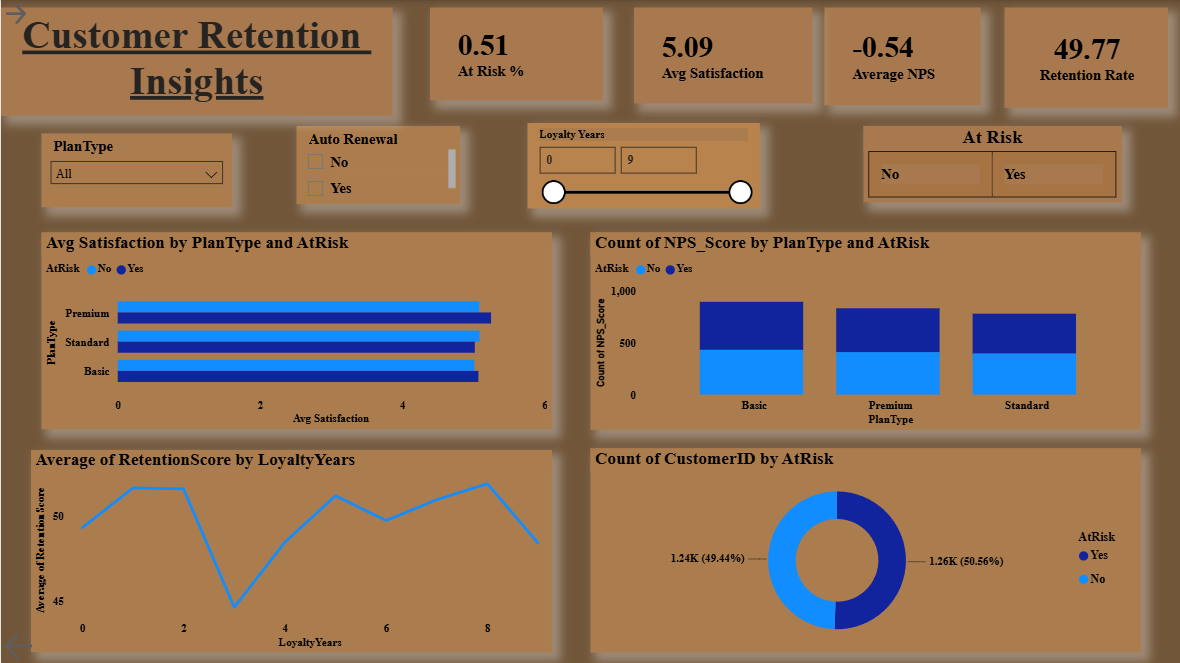

Layout of this report page (visuals, bound fields, positions):
{"tool":"powerbi","page":{"name":"Customer Retention","canvas":[1280,720],"ordinal":3},"visuals":[{"type":"cardVisual","fields":{"Data":["customer_retention.At Risk %"]},"box":[465.2,8.1,187.1,100.8],"z":0},{"type":"cardVisual","fields":{"Data":["customer_retention.Average NPS"]},"box":[893,8.1,169.2,105.7],"z":1000},{"type":"cardVisual","fields":{"Data":["customer_retention.Avg Satisfaction"]},"box":[686.4,8.1,193.6,104.1],"z":2000},{"type":"cardVisual","fields":{"Data":["customer_retention.Retention Rate"]},"box":[1088.2,8.1,177.3,109],"z":3000},{"type":"donutChart","fields":{"Category":["customer_retention.AtRisk"],"Y":["CountNonNull(customer_retention.CustomerID)"]},"box":[639.2,486.3,596.9,221.2],"z":4000},{"type":"clusteredBarChart","fields":{"Category":["customer_retention.PlanType"],"Y":["customer_retention.Avg Satisfaction"],"Series":["customer_retention.AtRisk"]},"box":[43.9,252.1,553,213.1],"z":5000},{"type":"lineChart","fields":{"Category":["customer_retention.LoyaltyYears"],"Y":["Avg(customer_retention.RetentionScore)"]},"box":[32.5,488,564.4,219.6],"z":6000},{"type":"columnChart","fields":{"Category":["customer_retention.PlanType"],"Y":["CountNonNull(customer_retention.NPS_Score)"],"Series":["customer_retention.AtRisk"]},"box":[639.7,251.7,596.6,213.8],"z":7000},{"type":"slicer","fields":{"Values":["customer_retention.PlanType"]},"box":[43.9,144.8,206.6,79.7],"z":8000},{"type":"advancedSlicerVisual","title":"At Risk","fields":{"Values":["customer_retention.AtRisk"]},"box":[935.3,136.6,279.8,83],"z":9000},{"type":"slicer","fields":{"Values":["customer_retention.LoyaltyYears"]},"box":[570.9,133.4,252.1,92.7],"z":10000},{"type":"slicer","fields":{"Values":["customer_retention.AutoRenewal"]},"box":[320.7,136.2,177.6,84.5],"z":11000},{"type":"textbox","box":[0,8.1,424.5,117.1],"z":12000},{"type":"actionButton","box":[0,0,65.5,31],"z":13000},{"type":"actionButton","box":[0,681,65.5,39.7],"z":14000}]}

Visuals, with their boxes in screenshot pixels (x1, y1, x2, y2), scaled from the page's 1280x720 canvas onto the 1180x663 screenshot:
cardVisual - customer_retention.At Risk %: (x1=429, y1=7, x2=601, y2=100)
cardVisual - customer_retention.Average NPS: (x1=823, y1=7, x2=979, y2=105)
cardVisual - customer_retention.Avg Satisfaction: (x1=633, y1=7, x2=811, y2=103)
cardVisual - customer_retention.Retention Rate: (x1=1003, y1=7, x2=1167, y2=108)
donutChart - customer_retention.AtRisk x CountNonNull(customer_retention.CustomerID): (x1=589, y1=448, x2=1140, y2=651)
clusteredBarChart - customer_retention.PlanType x customer_retention.Avg Satisfaction: (x1=40, y1=232, x2=550, y2=428)
lineChart - customer_retention.LoyaltyYears x Avg(customer_retention.RetentionScore): (x1=30, y1=449, x2=550, y2=652)
columnChart - customer_retention.PlanType x CountNonNull(customer_retention.NPS_Score): (x1=590, y1=232, x2=1140, y2=429)
slicer - customer_retention.PlanType: (x1=40, y1=133, x2=231, y2=207)
"At Risk" advancedSlicerVisual: (x1=862, y1=126, x2=1120, y2=202)
slicer - customer_retention.LoyaltyYears: (x1=526, y1=123, x2=759, y2=208)
slicer - customer_retention.AutoRenewal: (x1=296, y1=125, x2=459, y2=203)
textbox: (x1=0, y1=7, x2=391, y2=115)
actionButton: (x1=0, y1=0, x2=60, y2=29)
actionButton: (x1=0, y1=627, x2=60, y2=662)
